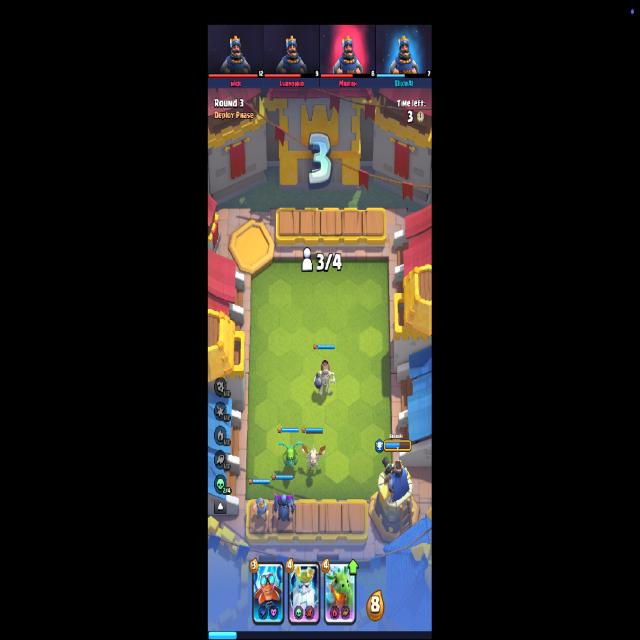baby_dragon: (279, 440, 302, 468)
card_baby_drag: (323, 560, 357, 626)
card_electro_giant: (252, 562, 284, 627)
card_royal_ghost: (288, 560, 320, 626)
giant_skeleton: (315, 359, 335, 399)
knight: (252, 497, 269, 524)
pekka: (270, 492, 296, 526)
skeleton_dragon: (301, 442, 325, 474)
